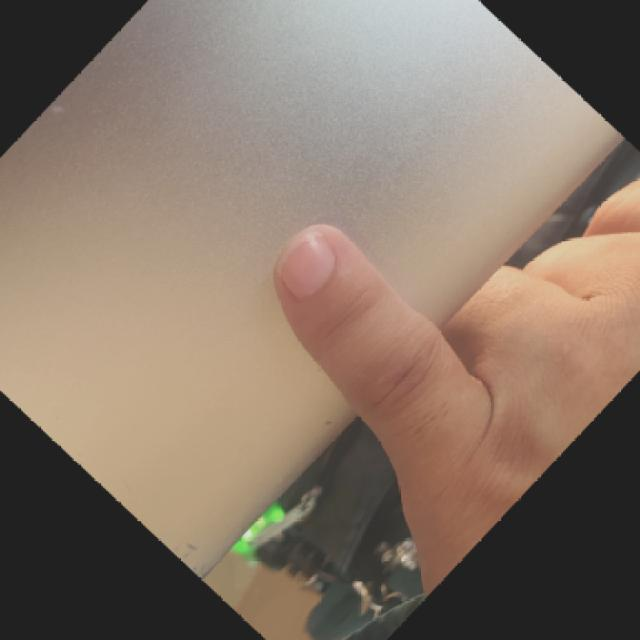Nail: (274, 231, 337, 298)
